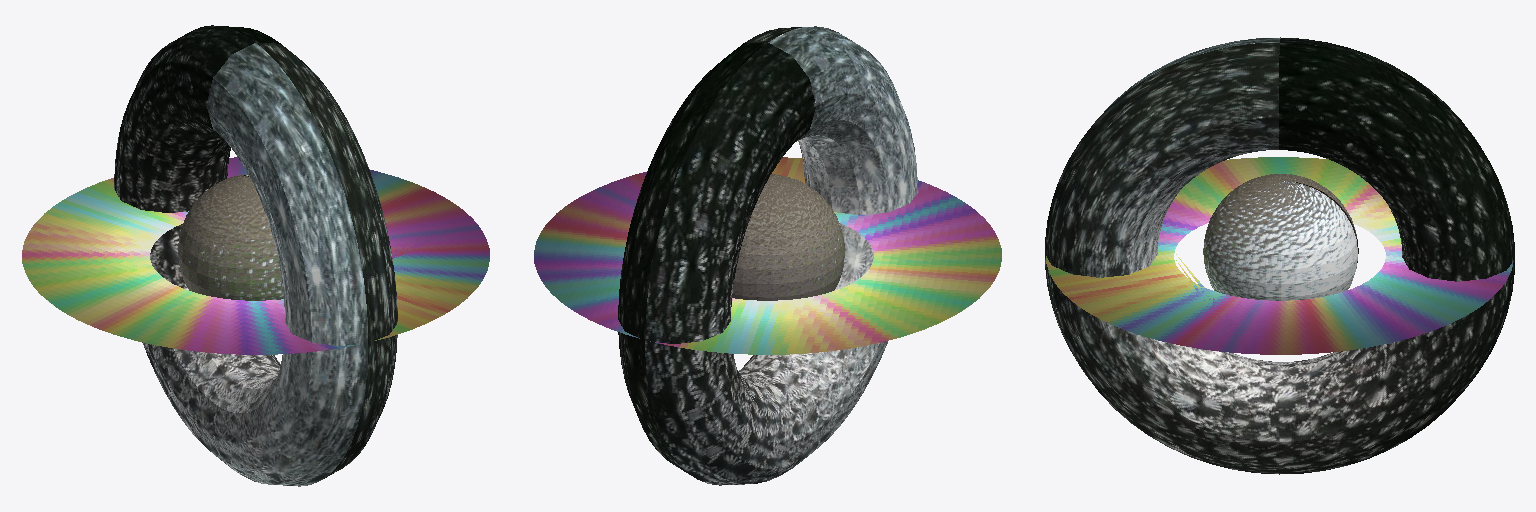
The picture shows the model from 3 angles: view 1: azimuth 30°, elevation 25°; view 2: azimuth 150°, elevation 25°; view 3: azimuth 270°, elevation 25°; orthographic projection.
Parts seen in each view (by area): view 1: Toroide_Gargantua:Torus001, Disk_GArgantua:Cylinder001, Sphere_Gargantua:Sphere002; view 2: Toroide_Gargantua:Torus001, Disk_GArgantua:Cylinder001, Sphere_Gargantua:Sphere002; view 3: Toroide_Gargantua:Torus001, Disk_GArgantua:Cylinder001, Sphere_Gargantua:Sphere002.
Boxes of the visible parts, x1=… form: Toroide_Gargantua:Torus001: x1=114, y1=25, x2=397, y2=486; Disk_GArgantua:Cylinder001: x1=22, y1=157, x2=489, y2=354; Sphere_Gargantua:Sphere002: x1=178, y1=174, x2=283, y2=300; Toroide_Gargantua:Torus001: x1=618, y1=26, x2=917, y2=485; Disk_GArgantua:Cylinder001: x1=534, y1=157, x2=1001, y2=354; Sphere_Gargantua:Sphere002: x1=732, y1=174, x2=844, y2=300; Toroide_Gargantua:Torus001: x1=1045, y1=37, x2=1514, y2=474; Disk_GArgantua:Cylinder001: x1=1046, y1=157, x2=1513, y2=354; Sphere_Gargantua:Sphere002: x1=1203, y1=174, x2=1358, y2=300.
Bounding box in the file's own units: 7.66 × 7.71 × 7.69.
Materials: 3 (3 with a texture image).